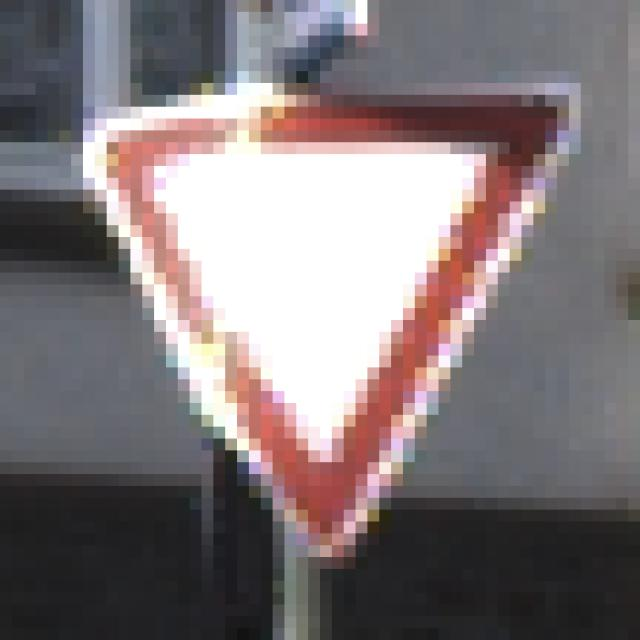Give Way: (60, 60, 582, 582)
